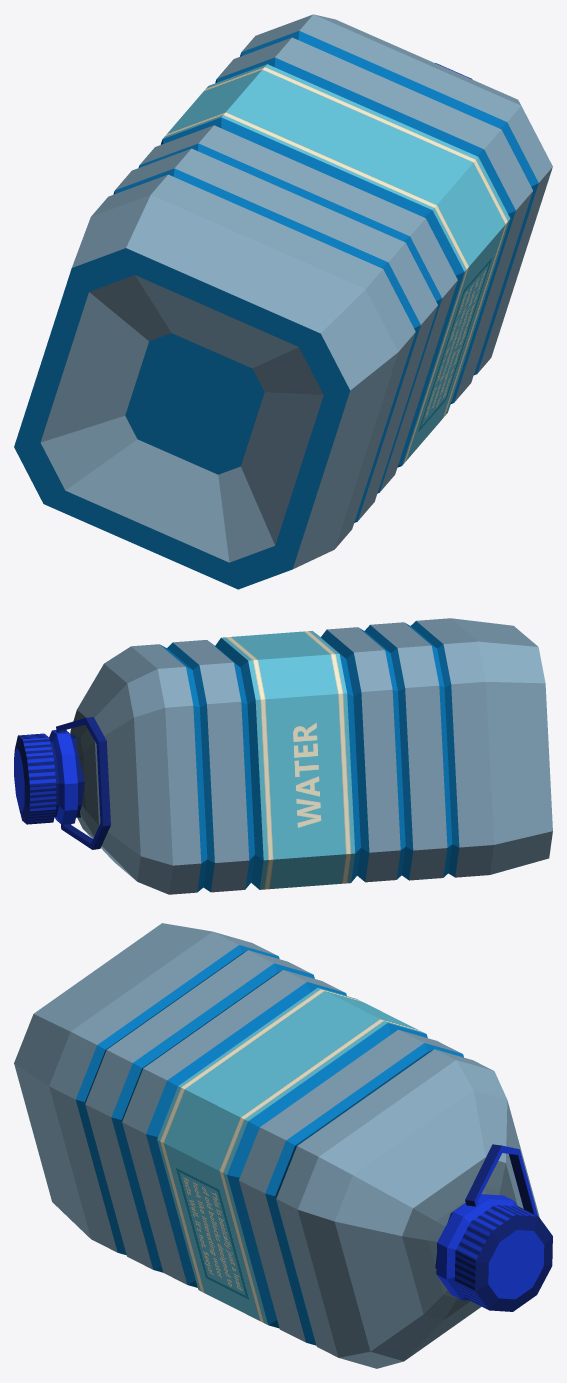
File: GiantWaterBottle.fbx
3 views of the same model, one above another, from view 1: azimuth 30°, elevation 25°; view 2: azimuth 150°, elevation 25°; view 3: azimuth 270°, elevation 25° (orthographic). The views are drawn at different scales.
Visible parts, largest first — view 1: ZomboidGiantWaterBottle; view 2: ZomboidGiantWaterBottle; view 3: ZomboidGiantWaterBottle.
Boxes of the visible parts, x1,y1,x2,y2 form: ZomboidGiantWaterBottle: [14, 14, 552, 589]; ZomboidGiantWaterBottle: [14, 618, 552, 894]; ZomboidGiantWaterBottle: [14, 923, 552, 1368].
Size of the model in its own units: 0.3444 by 0.1872 by 0.315.
